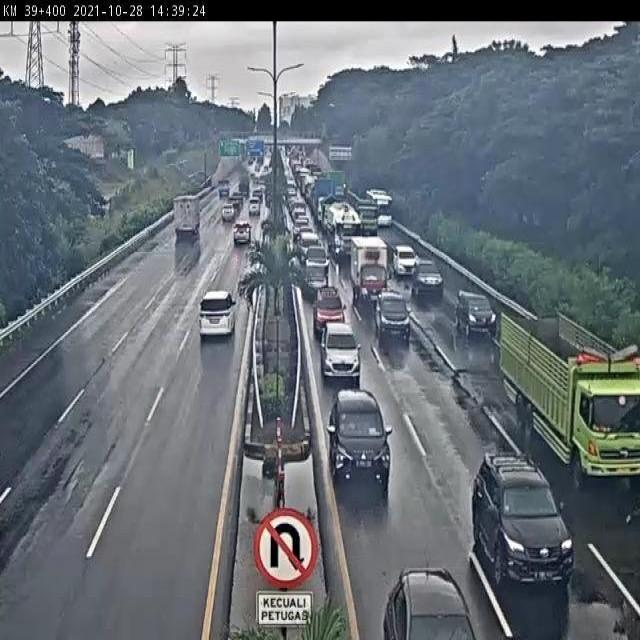big truck: (485, 296, 640, 489), (326, 200, 363, 265)
car: (460, 442, 574, 586), (366, 553, 487, 640), (320, 376, 393, 492), (189, 275, 240, 357), (315, 319, 366, 384), (448, 284, 495, 345), (372, 286, 417, 346), (304, 279, 348, 333), (406, 252, 443, 304), (390, 240, 417, 279), (230, 218, 256, 250), (246, 196, 264, 220), (217, 204, 237, 223)
small truck: (343, 234, 397, 314), (166, 192, 202, 248)
